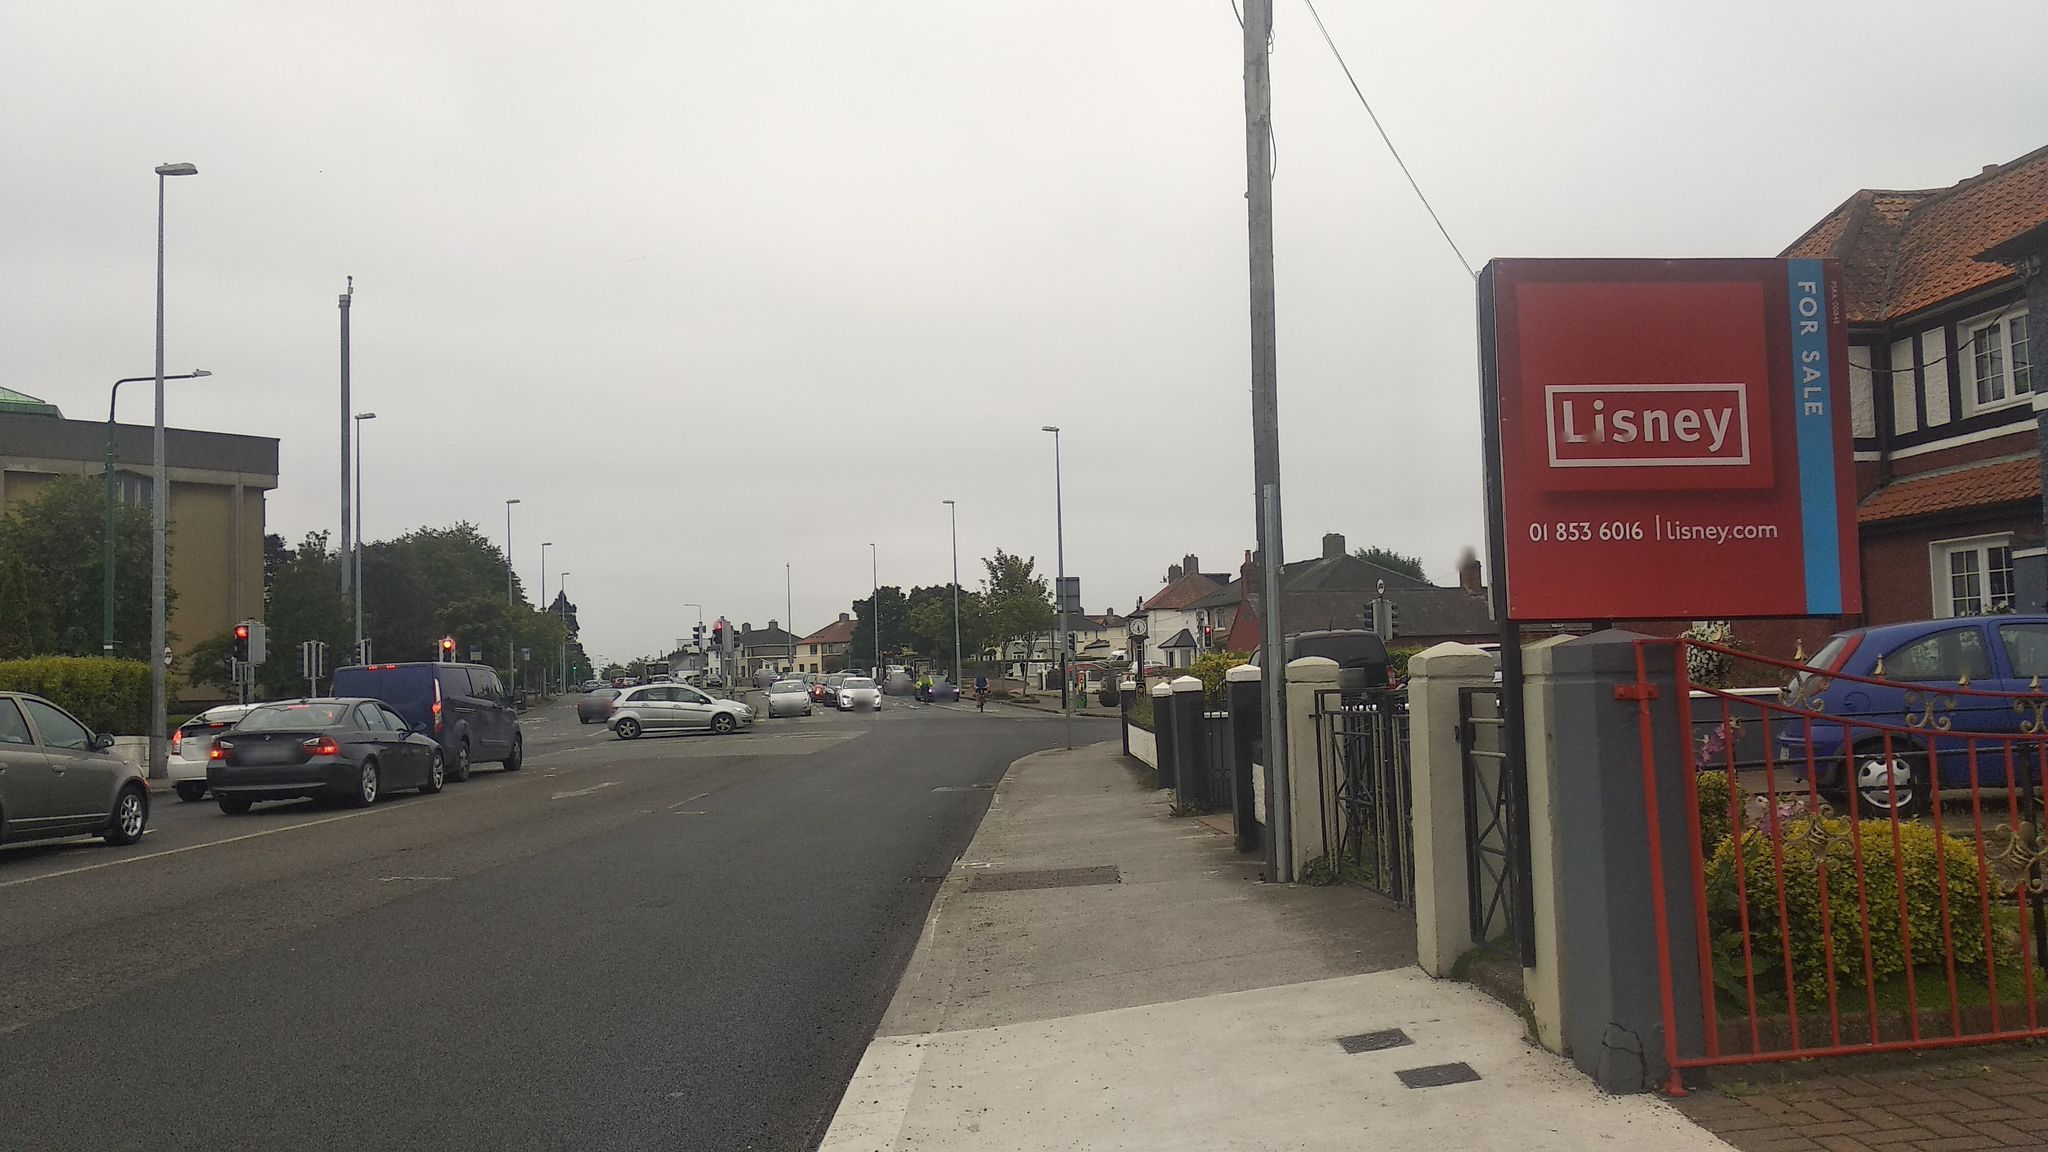property sign: (1438, 231, 1881, 644)
